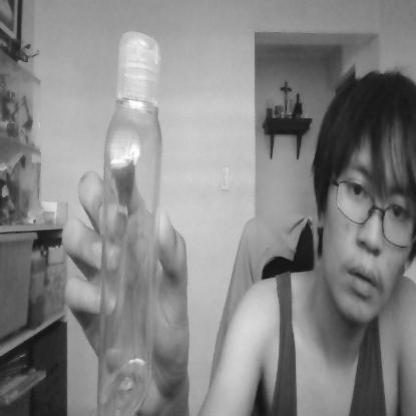Plastic Bottle: (95, 28, 166, 416)
